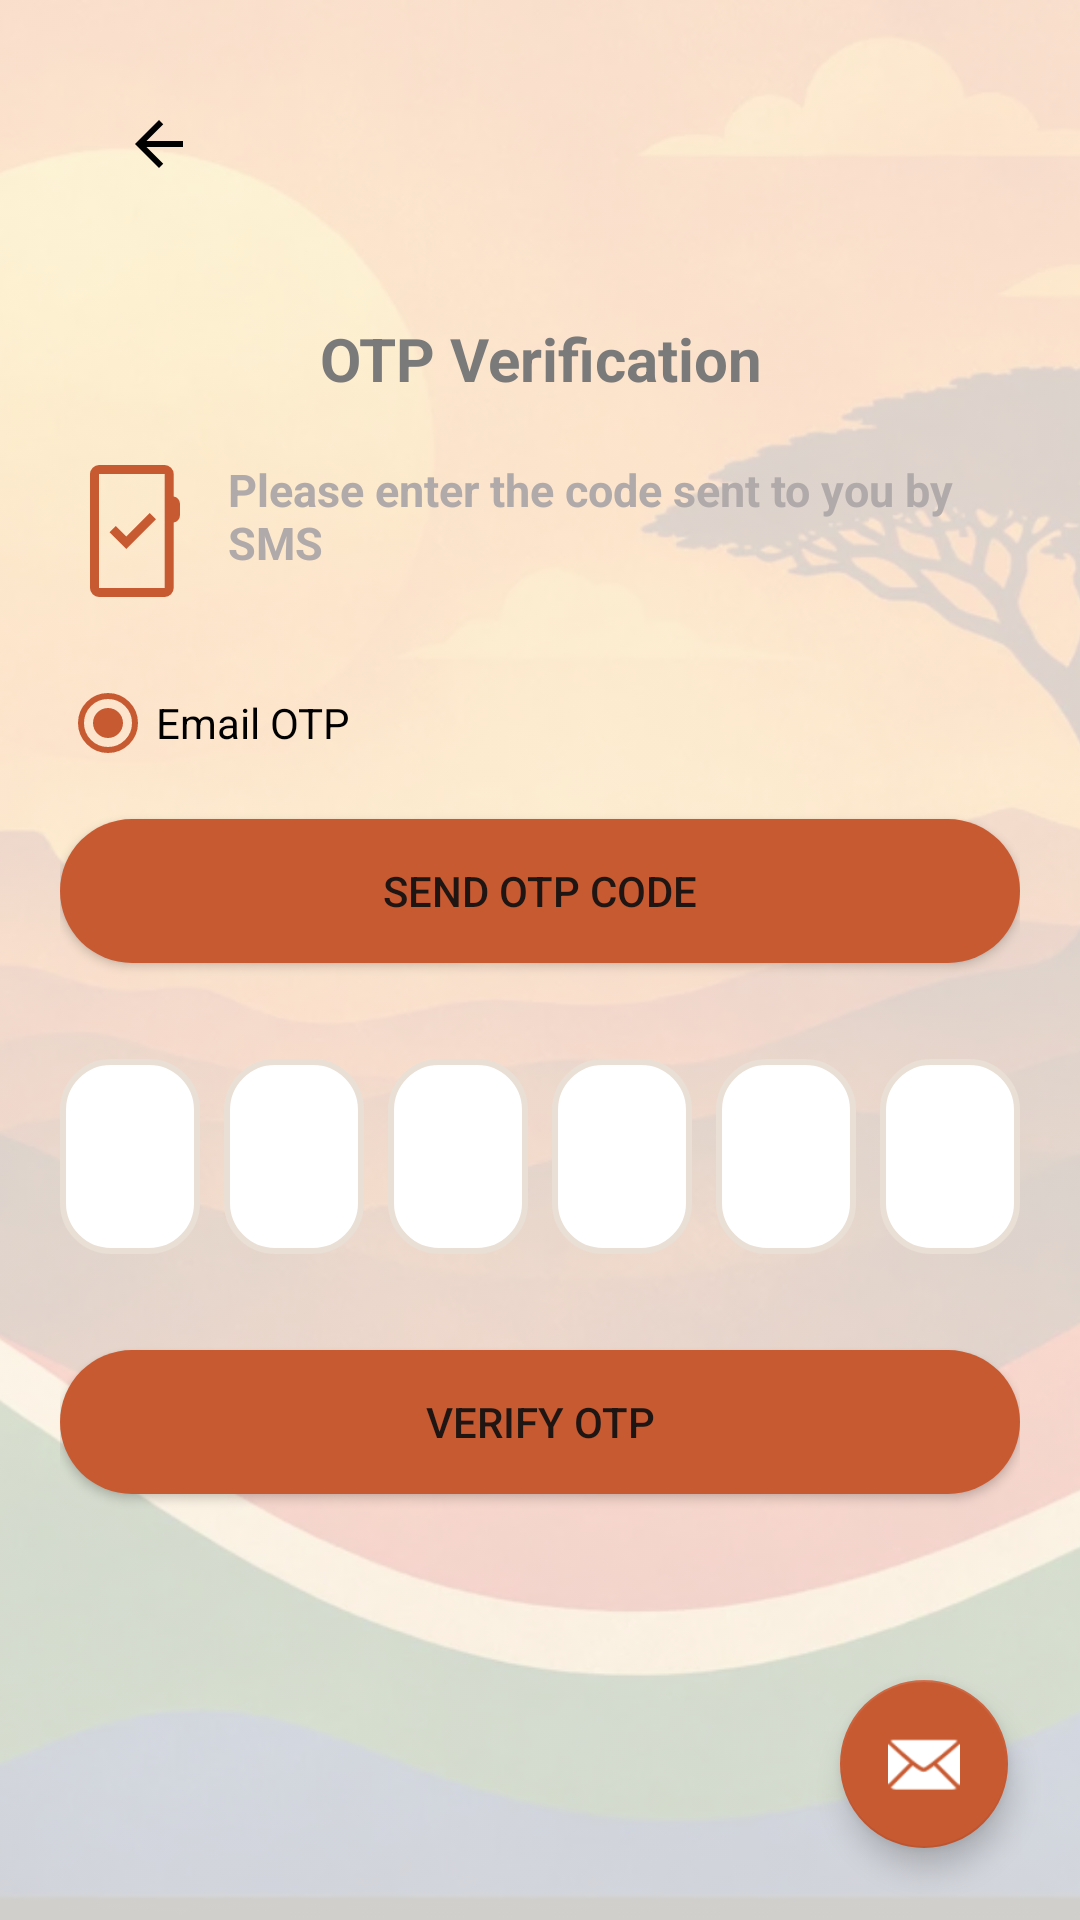

Where icons sit on this 1080×1920 app screen, as BBox(x1, y1, x2, y2):
Chat with us: BBox(840, 1680, 1008, 1848)
Go Back to previous screen: BBox(135, 120, 183, 168)
